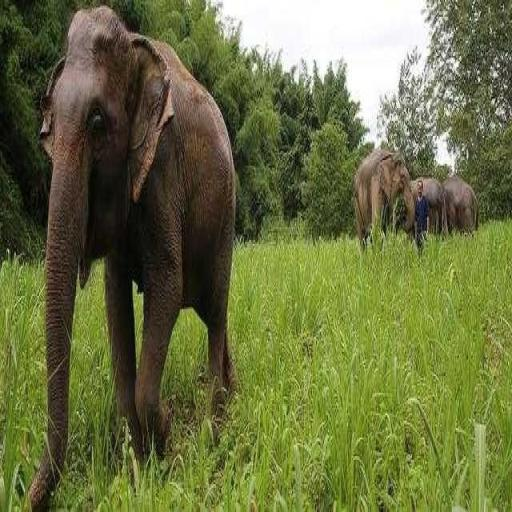Elephant: (26, 4, 238, 510), (354, 144, 415, 250), (410, 176, 448, 238), (441, 175, 479, 235)
